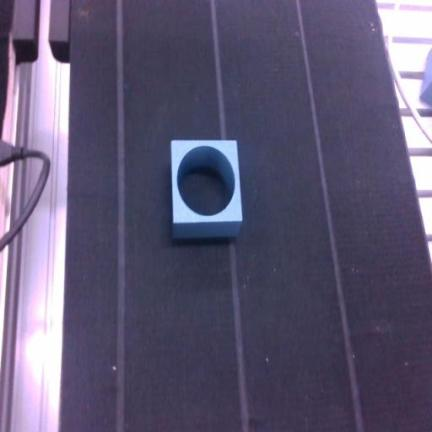square: (172, 141, 242, 238)
